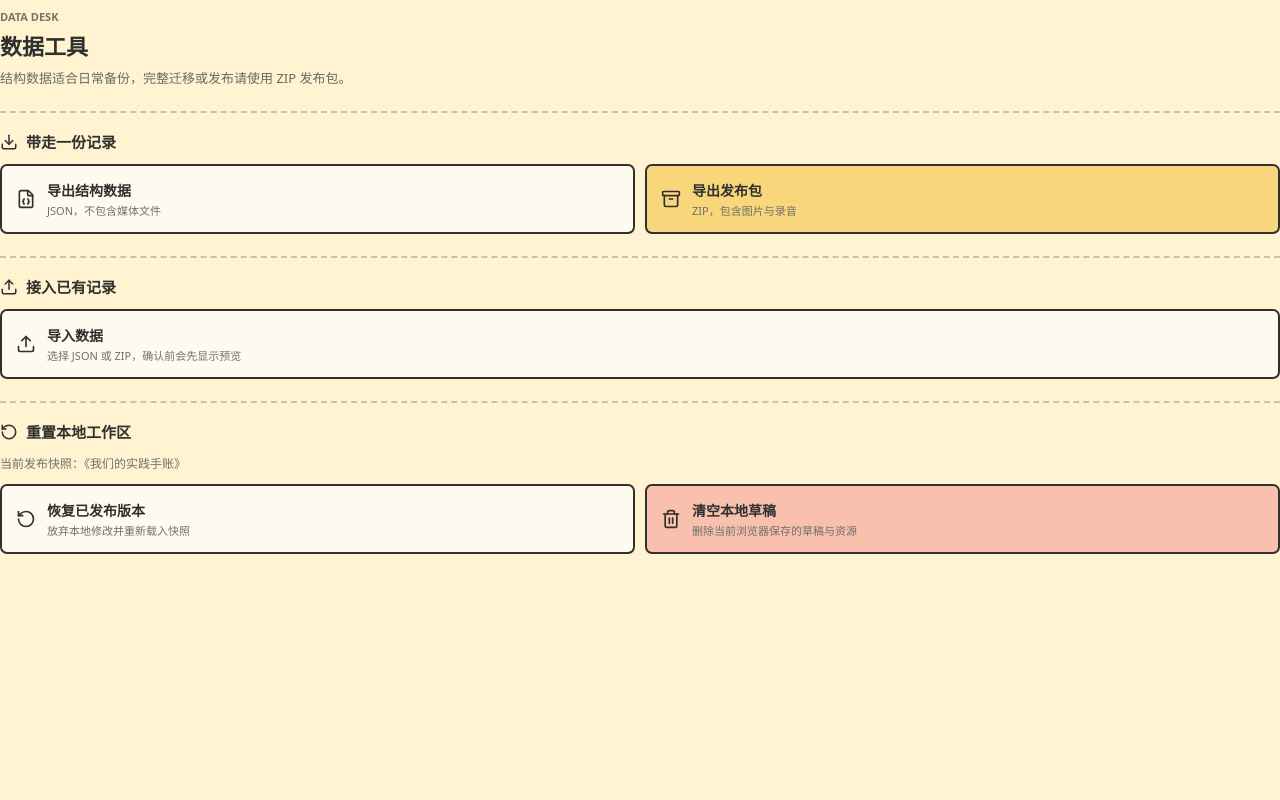
Test: requires confirmation before restoring published data
Click the button "恢复已发布版本" at (96, 510), box [0,484,635,554]
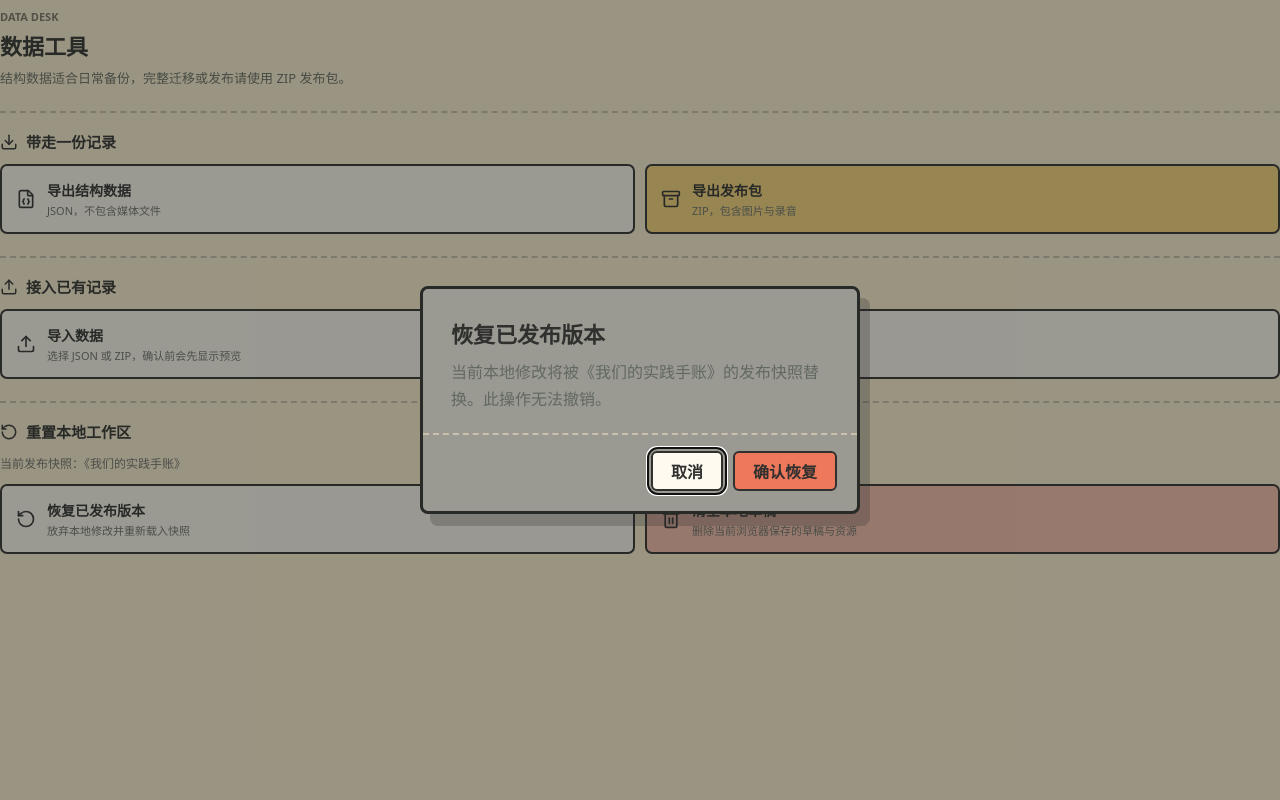
Check: the dialog "恢复已发布版本" is shown, box [420,286,860,514]
